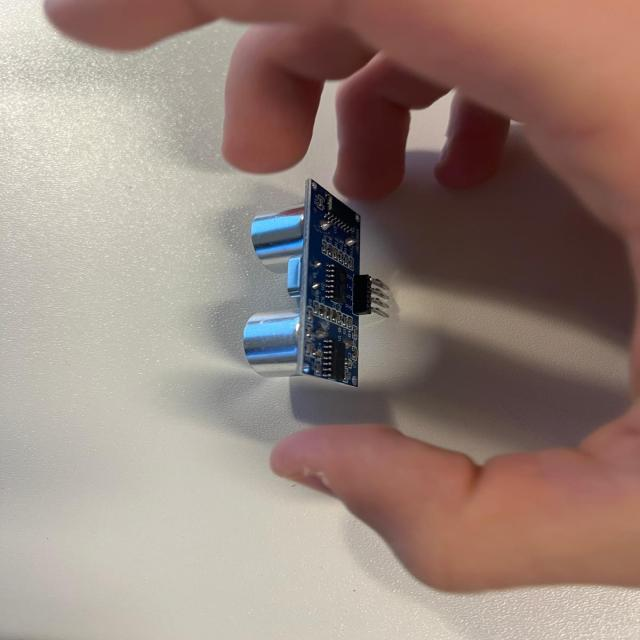UltrasoneSensor: (227, 190, 416, 390)
